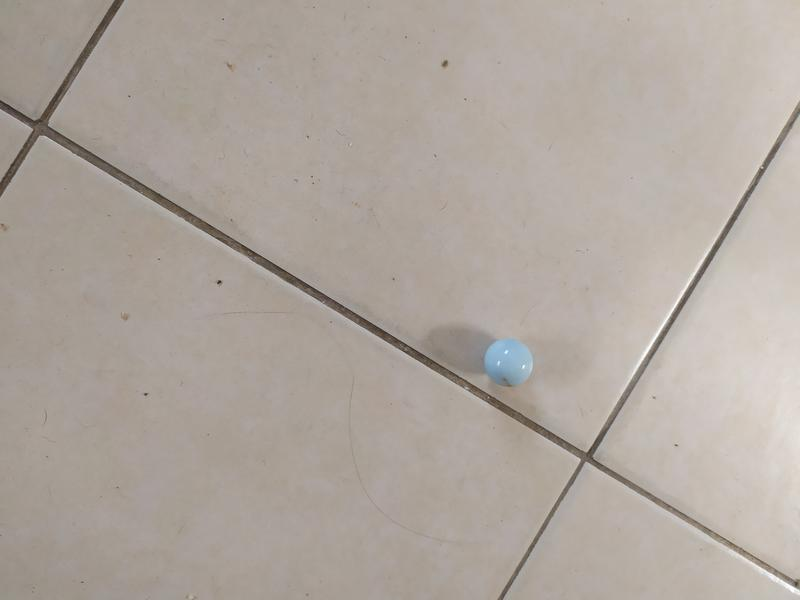Warning: (481, 333, 536, 390)
